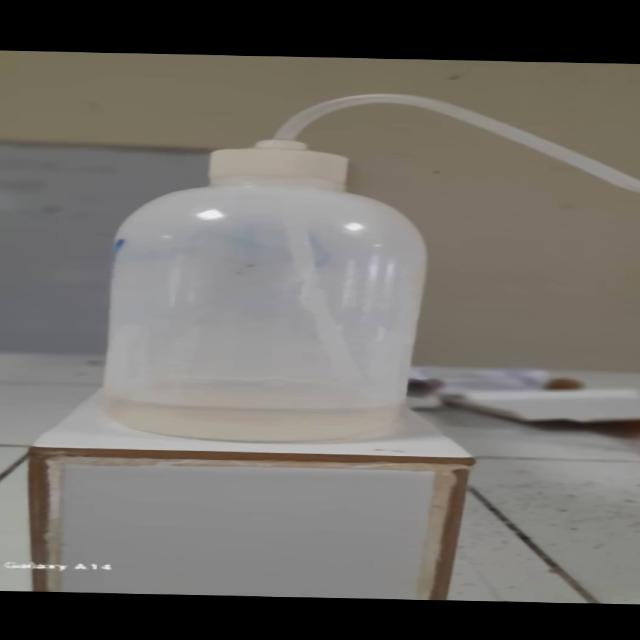Washing Bottle: (82, 75, 640, 448)
